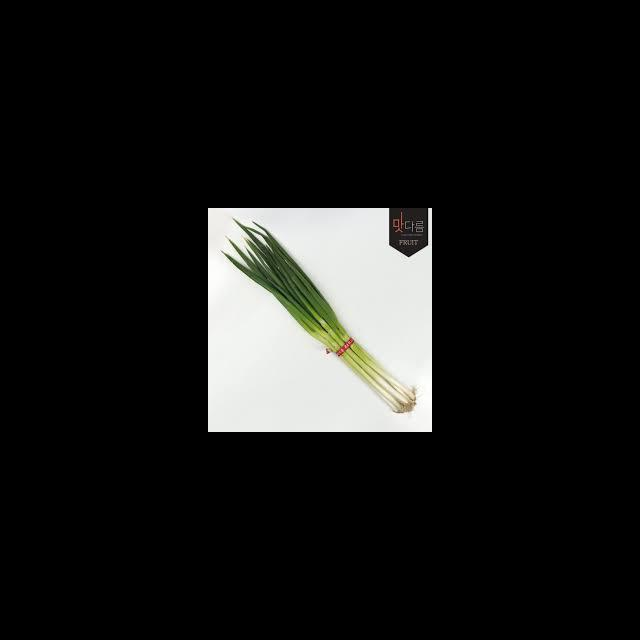green_onion: (224, 219, 416, 413)
